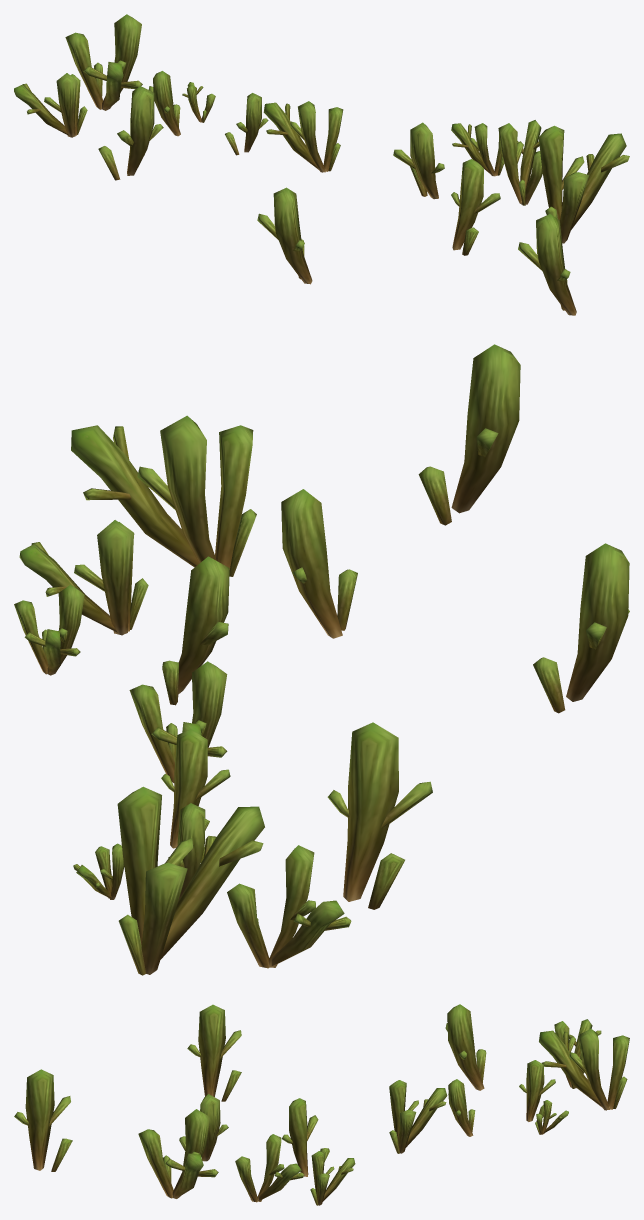
Rendered from Area_08_20.fbx.
3 renders of one model, top to bottom at view 1: azimuth 30°, elevation 25°; view 2: azimuth 150°, elevation 25°; view 3: azimuth 270°, elevation 25°, orthographic. The views are drawn at different scales.
Visible parts, largest first — view 1: Area_08_20; view 2: Area_08_20; view 3: Area_08_20.
Boxes of the visible parts, bbox=[...] form: Area_08_20: bbox=[14, 14, 629, 315]; Area_08_20: bbox=[14, 344, 629, 975]; Area_08_20: bbox=[14, 1004, 629, 1205].
Bounding box in the file's own units: 1184 × 314 × 1889.
Materials: 1 (1 with a texture image).
